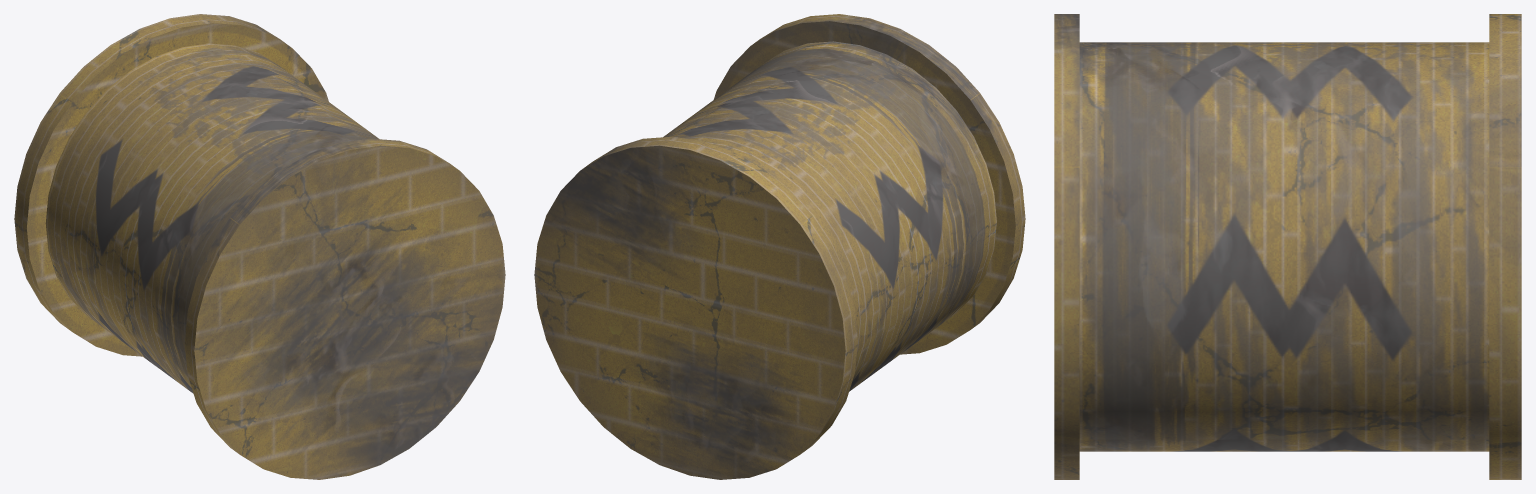
The model's file is pillar_003.fbx.
3 views of the same model, side by side, from view 1: azimuth 30°, elevation 25°; view 2: azimuth 150°, elevation 25°; view 3: azimuth 270°, elevation 25° (orthographic). The views are drawn at different scales.
Visible parts, largest first — view 1: pillar_003; view 2: pillar_003; view 3: pillar_003.
Part boxes in pixels (x1,y1,x2,y2): pillar_003: (14,14,505,479); pillar_003: (534,14,1025,479); pillar_003: (1054,14,1521,479).
Size of the model in its own units: 2.28 by 2.28 by 2.28.
